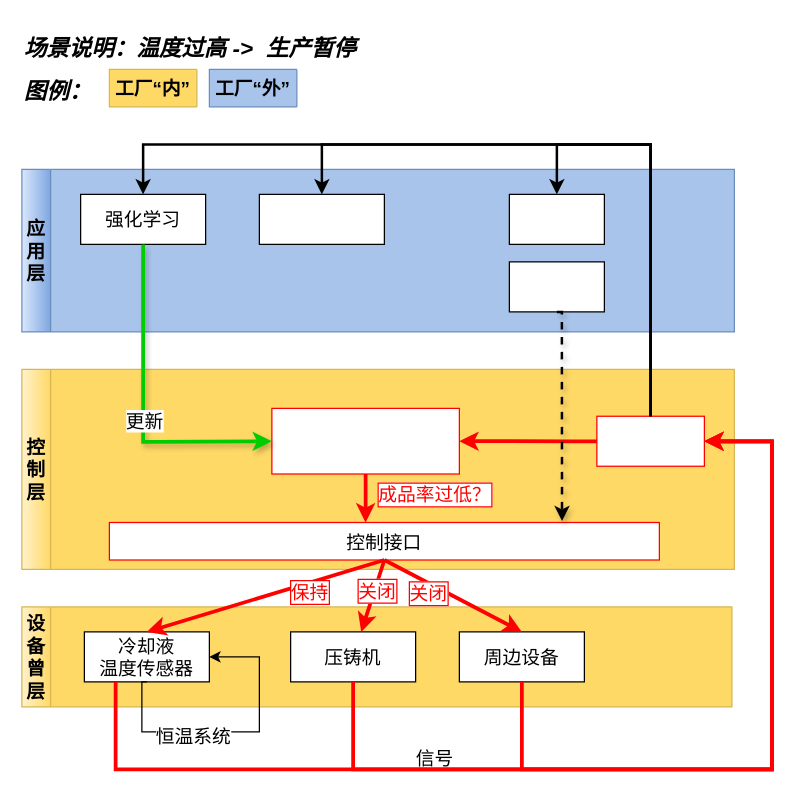
Some shapes in this 805 by 803 pixel diagram are drawn without their labels. The shapes that lost their labels are listed below. From the top down, each one's centre as x and y in pixels, then its label:
At point (321, 218): "手机监控".
At point (556, 218): "现场监控".
At point (556, 286): "控制台".
At point (365, 440): "成品率 预测模型".
At point (650, 440): "特征提取".
